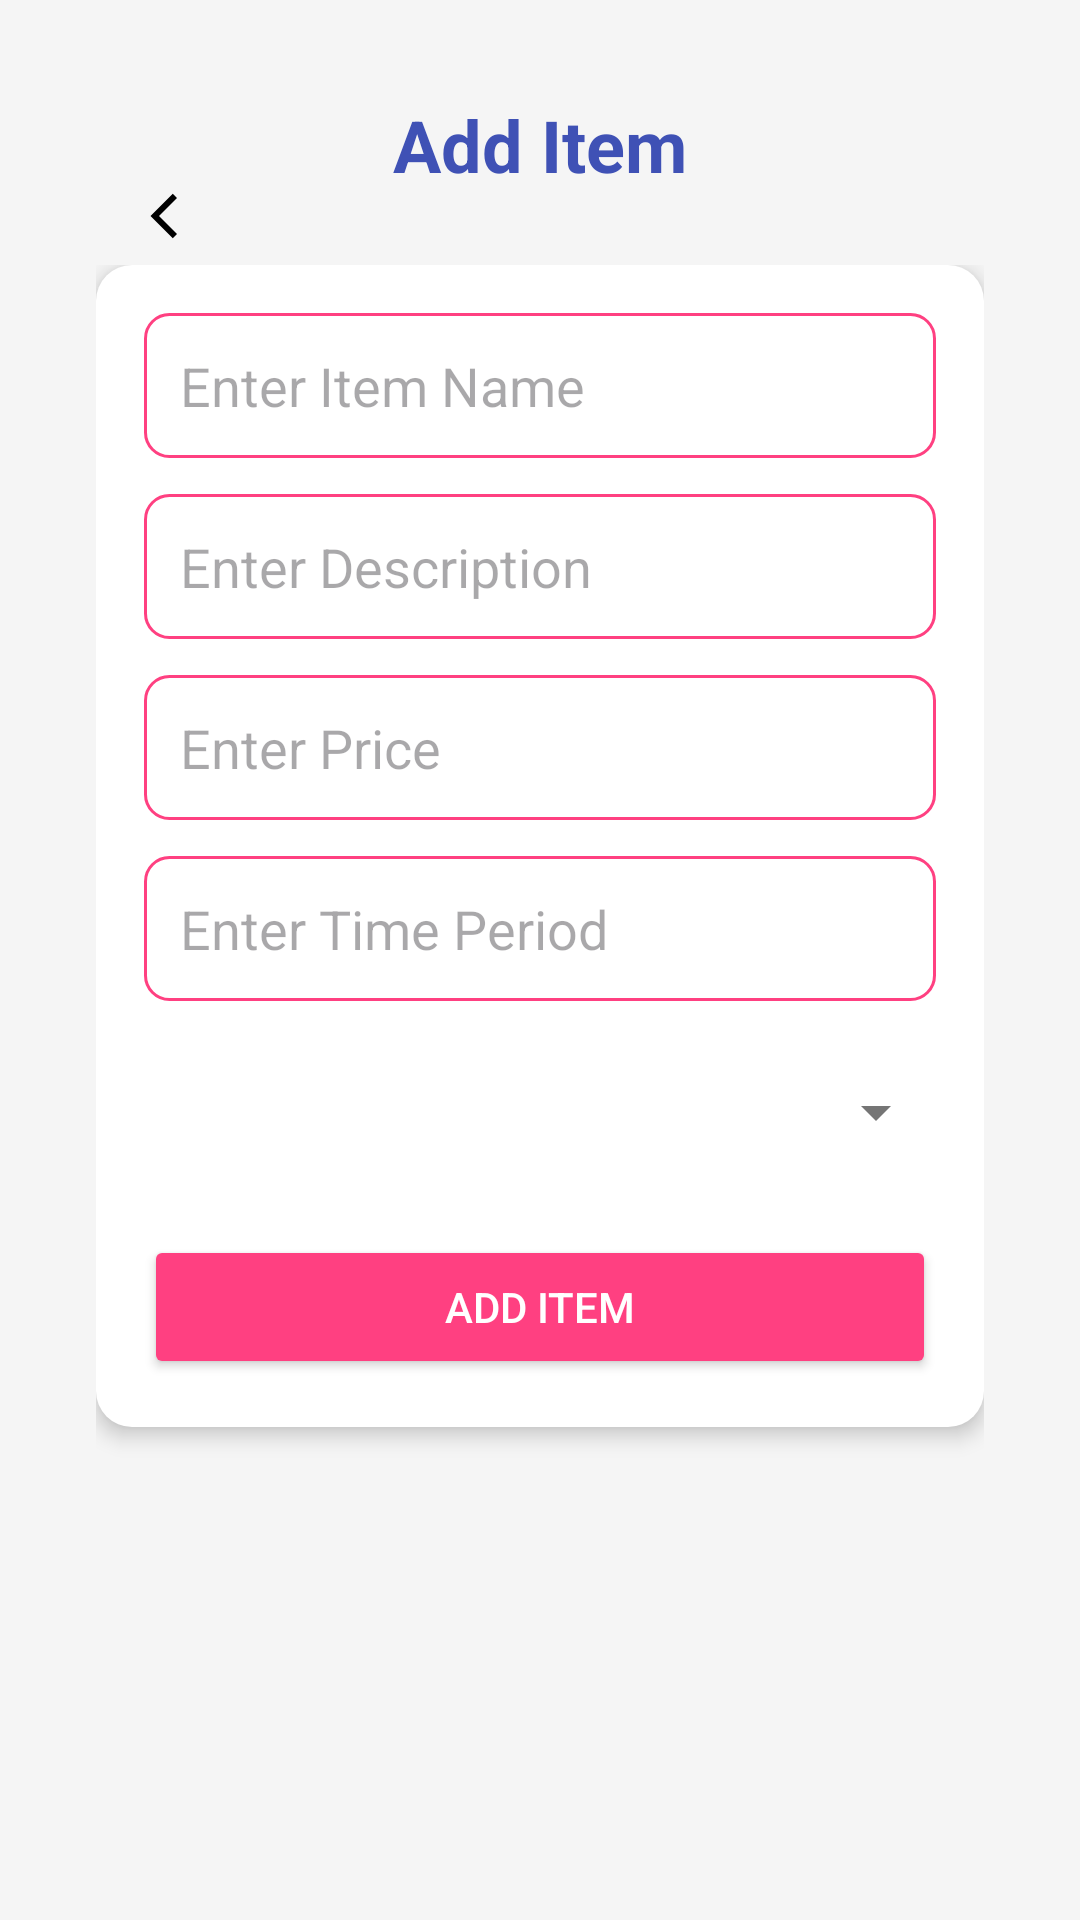

Icon bounding boxes for this 1080 × 1920 phone screenshot, format (x1, y1, x2, y2):
Back: (150, 194, 177, 238)
dropdown arrow: (861, 1106, 891, 1121)
